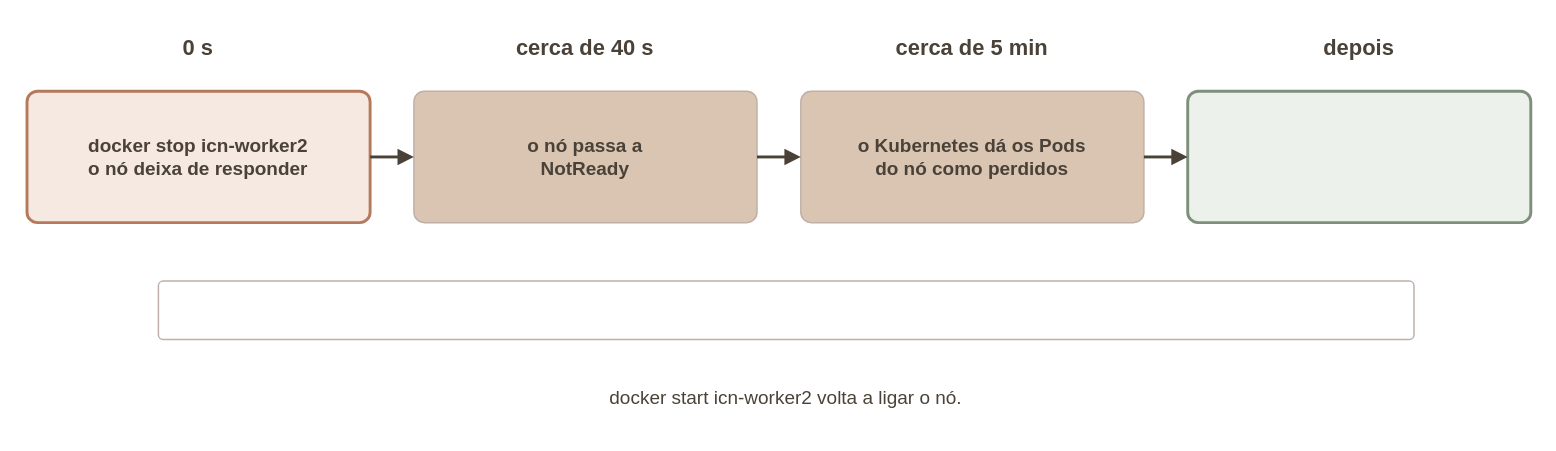
Some shapes in this 1556 by 451 pixel diagram are drawn without their labels. The shapes that lost their labels are listed below. From the top down, each one's centre as x and y in pixels, then its label:
At point (1359, 156): "o ReplicaSet cria Pods no nó que resta".
At point (785, 309): "O Kubernetes espera de propósito: assim não reage a falhas breves.".
